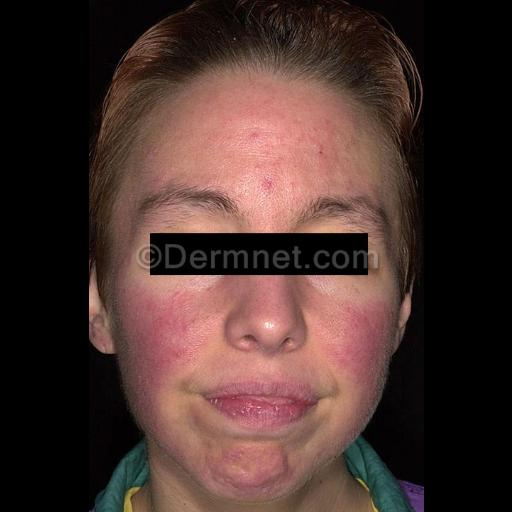Skin_Lesion: (139, 310, 197, 370), (330, 313, 378, 347), (248, 128, 268, 154), (261, 173, 277, 199), (313, 148, 333, 164), (318, 116, 340, 130)
